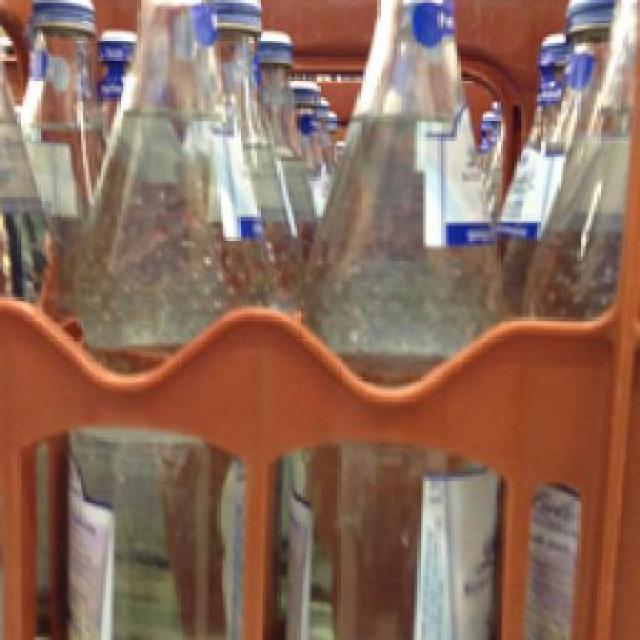Water: (288, 0, 514, 637), (71, 2, 278, 638)
